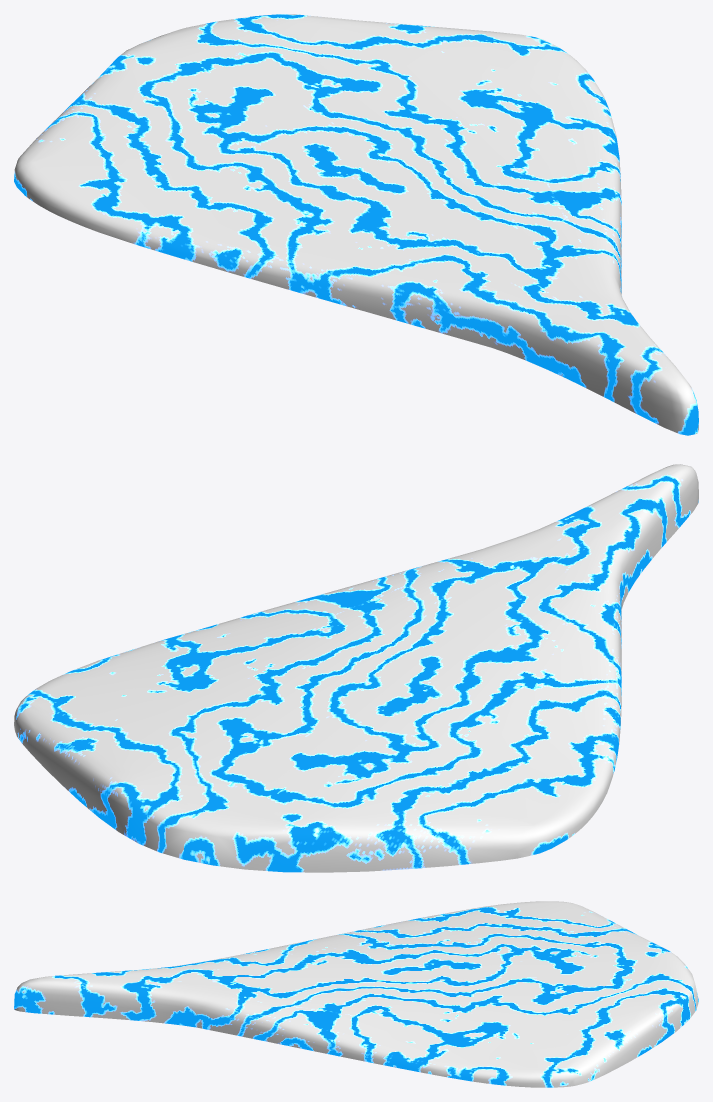
The model's file is SupremeFour.fbx.
3 views of the same model, one above another, from view 1: azimuth 30°, elevation 25°; view 2: azimuth 150°, elevation 25°; view 3: azimuth 270°, elevation 25° (orthographic). The views are drawn at different scales.
Parts seen in each view (by area): view 1: supreme_4; view 2: supreme_4; view 3: supreme_4.
Part boxes in pixels (left/top/right/bottom): supreme_4: left=14, top=14, right=698, bottom=435; supreme_4: left=14, top=464, right=698, bottom=872; supreme_4: left=14, top=901, right=698, bottom=1087.
Bounding box in the file's own units: 511 × 832 × 40.61.
